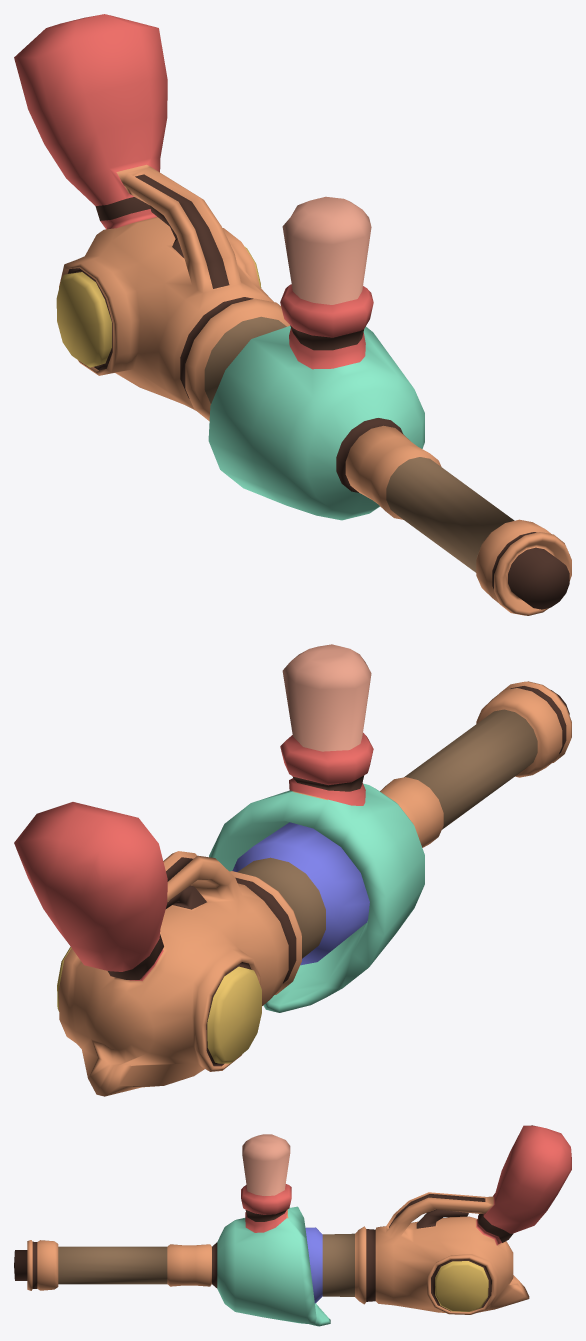
The model's file is ShotGunNew.fbx.
3 renders of one model, top to bottom at view 1: azimuth 30°, elevation 25°; view 2: azimuth 150°, elevation 25°; view 3: azimuth 270°, elevation 25°, orthographic. The views are drawn at different scales.
Visible parts, largest first — view 1: Cylinder; view 2: Cylinder; view 3: Cylinder.
Boxes of the visible parts, x1,y1,x2,y2 form: Cylinder: (14,14,571,615); Cylinder: (14,644,571,1096); Cylinder: (14,1125,571,1326).
Size of the model in its own units: 208 by 375 by 992.
